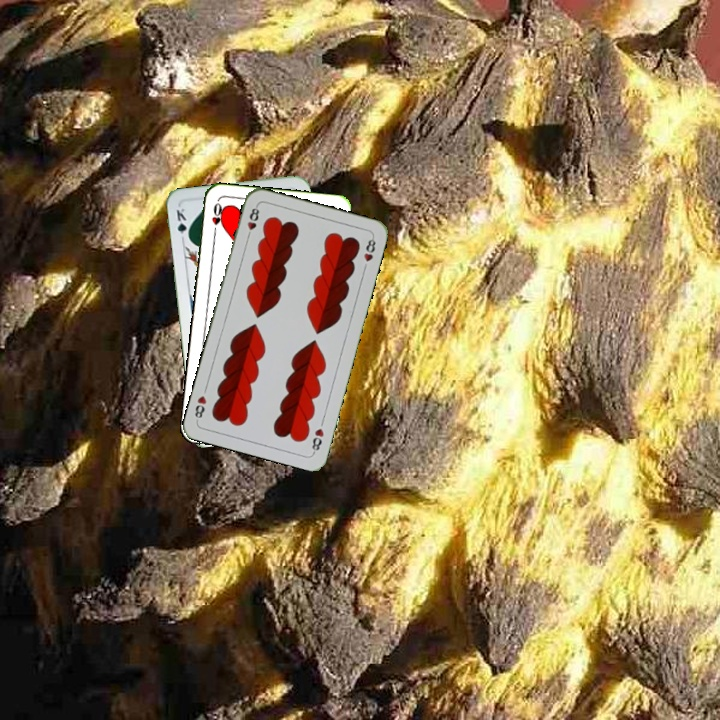GK: (172, 204, 192, 244)
H8: (243, 202, 262, 242), (308, 424, 326, 455)
HO: (208, 199, 225, 239)
